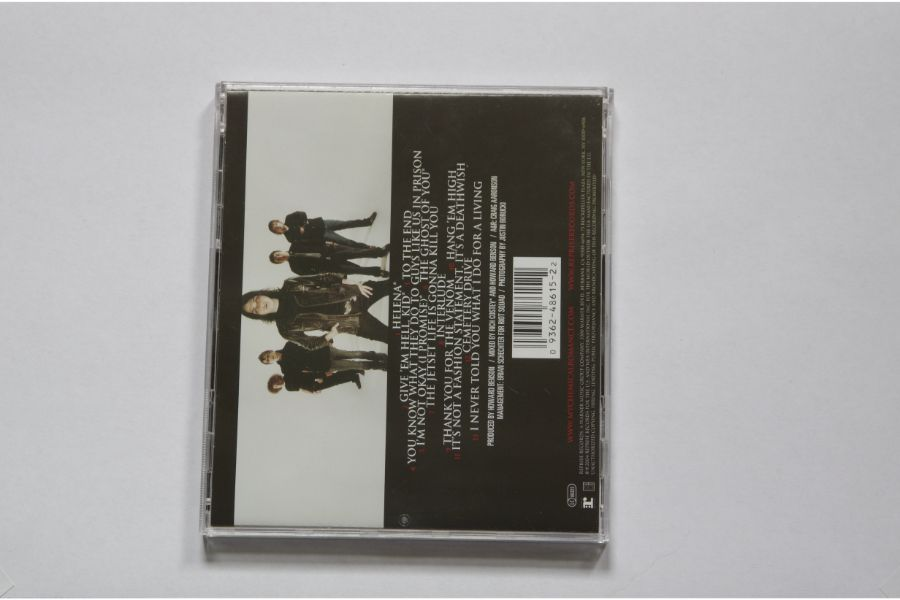album: (198, 76, 610, 546)
